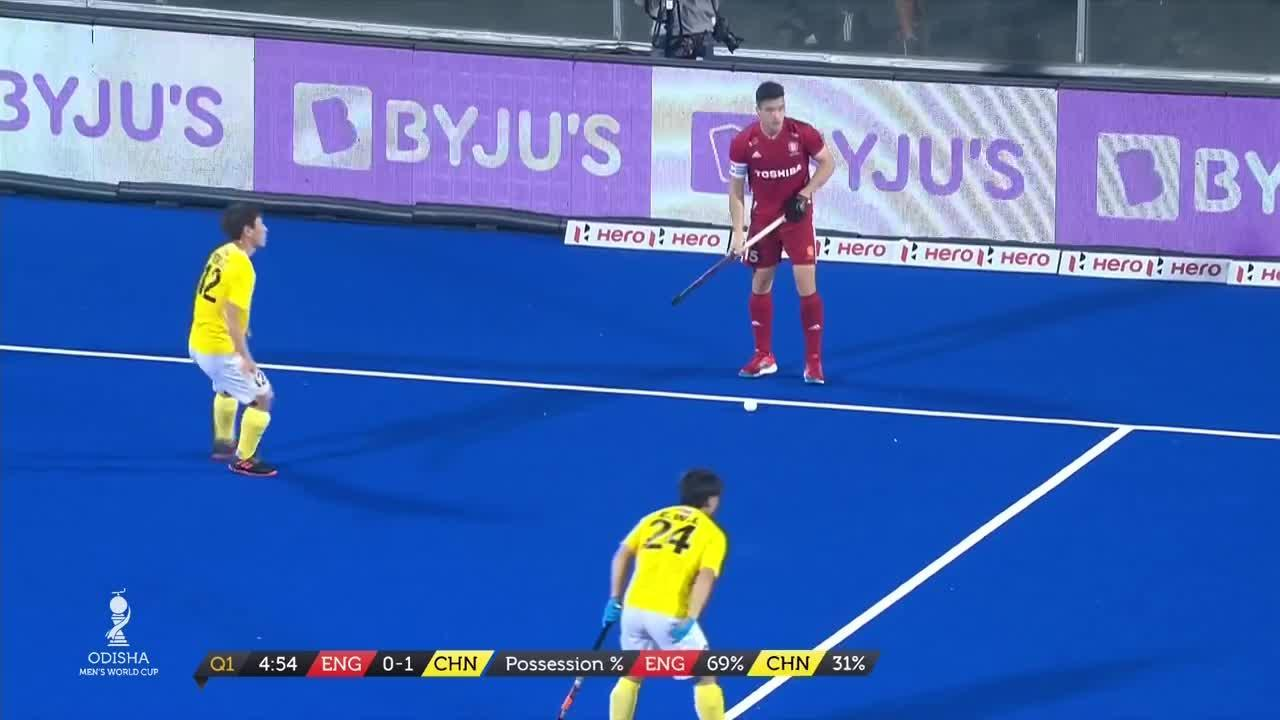ball: (744, 398, 760, 413)
